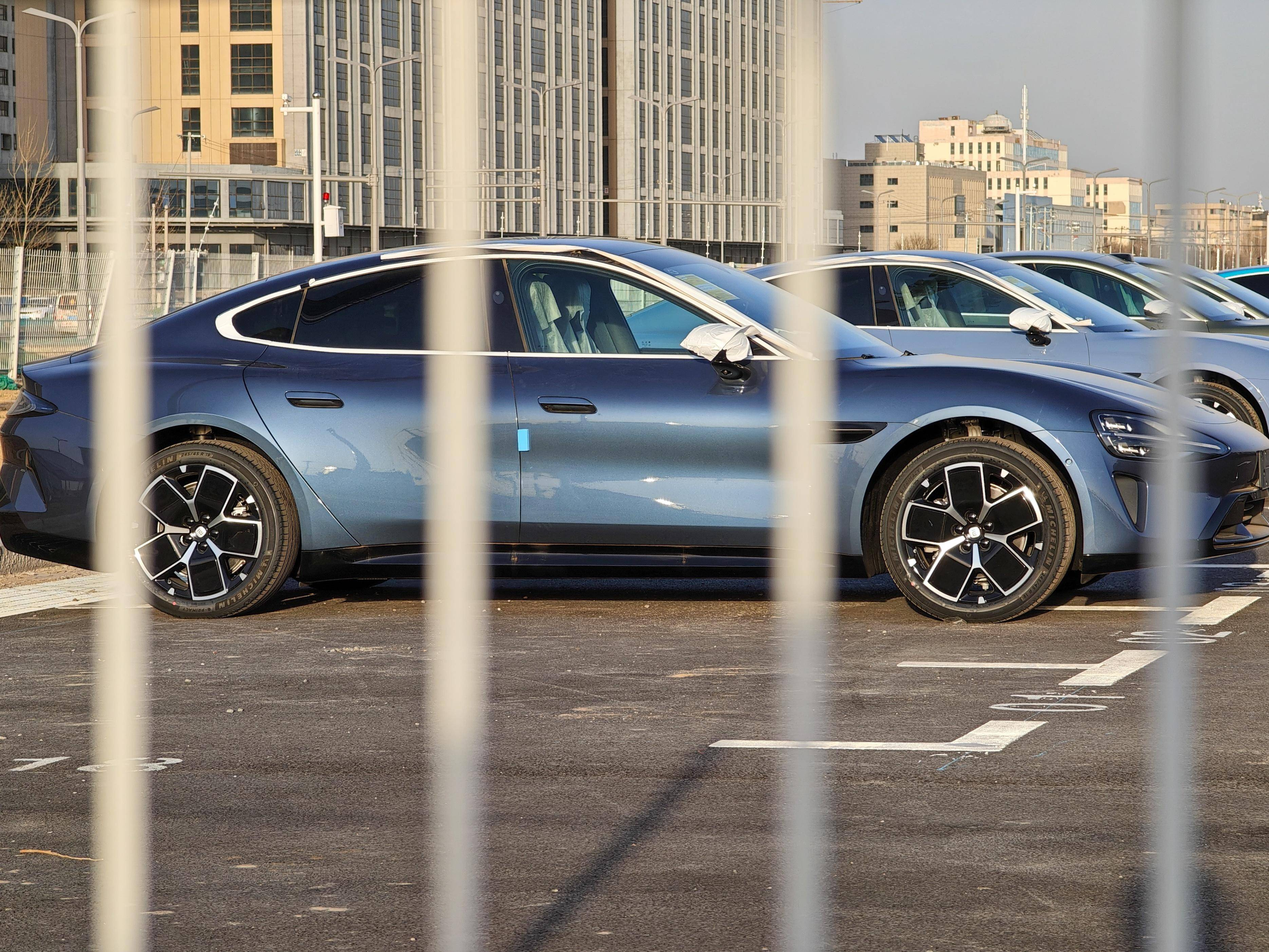su7: (14, 227, 1269, 630)
